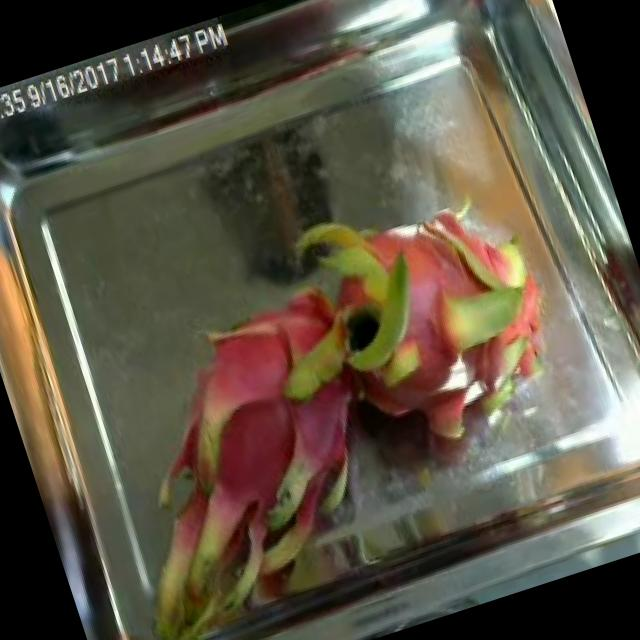Fruit: (438, 308, 546, 414)
